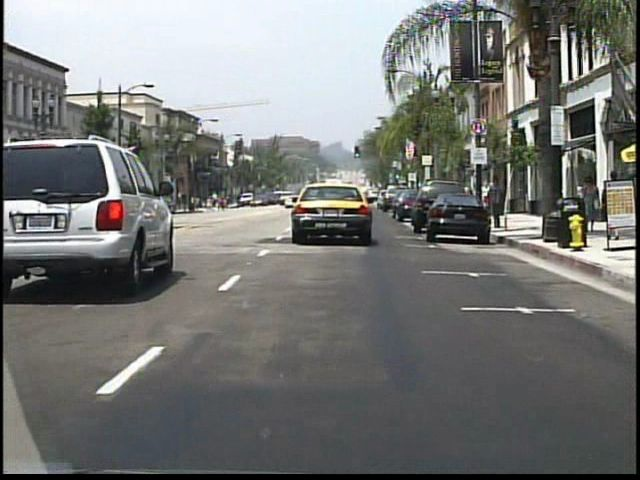person: (603, 168, 624, 242), (583, 175, 600, 236), (482, 180, 492, 215), (237, 194, 244, 210)
